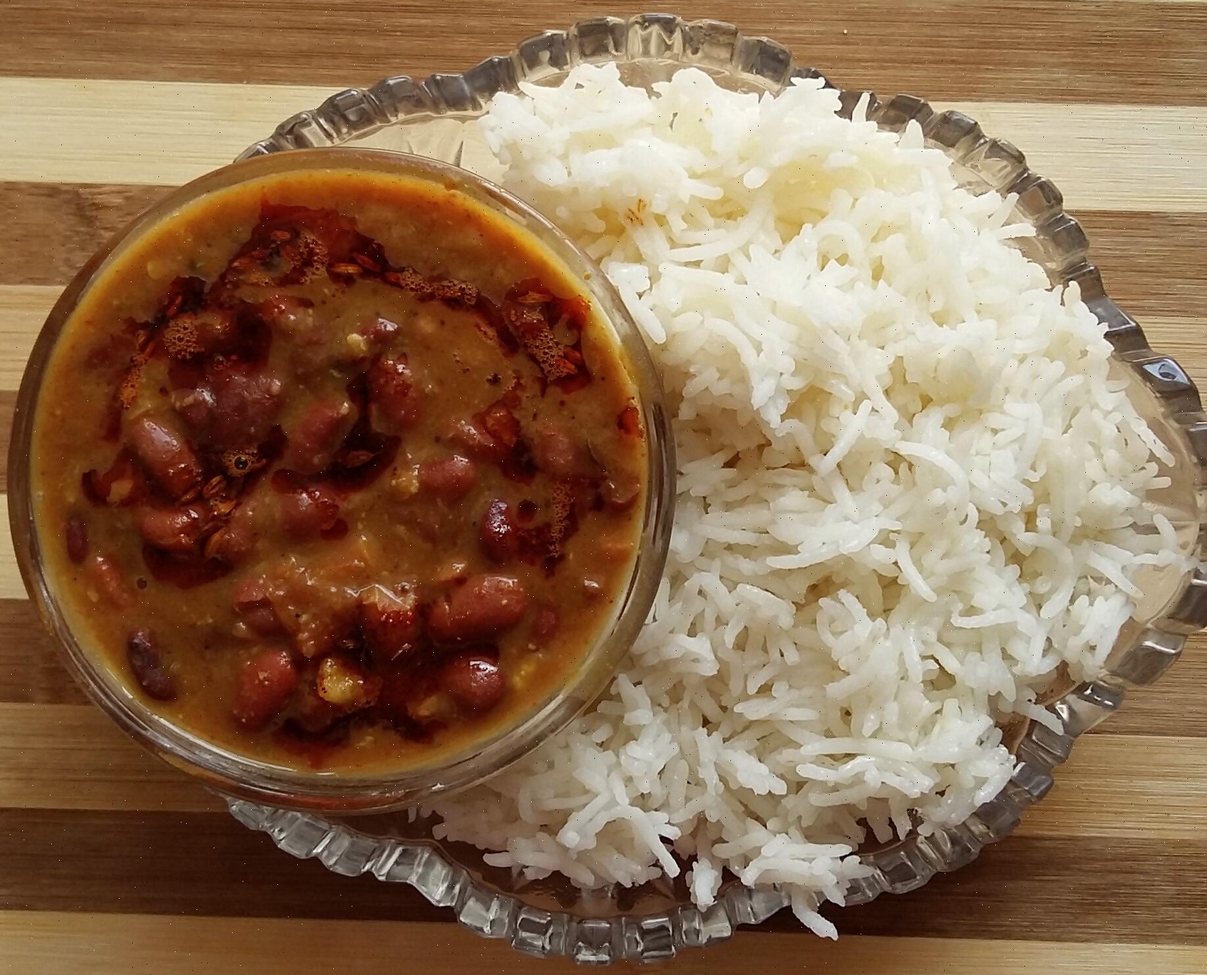rajma: (105, 199, 594, 758)
rice: (662, 90, 1183, 973)
